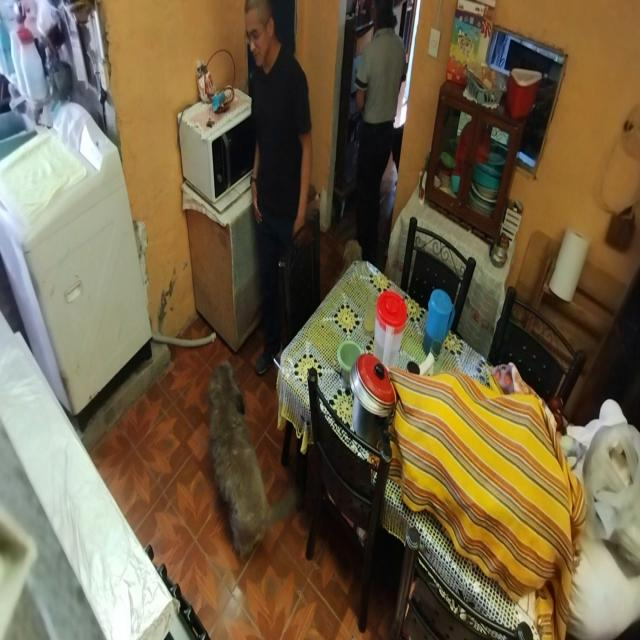adult: (246, 0, 320, 368), (347, 0, 413, 258)
